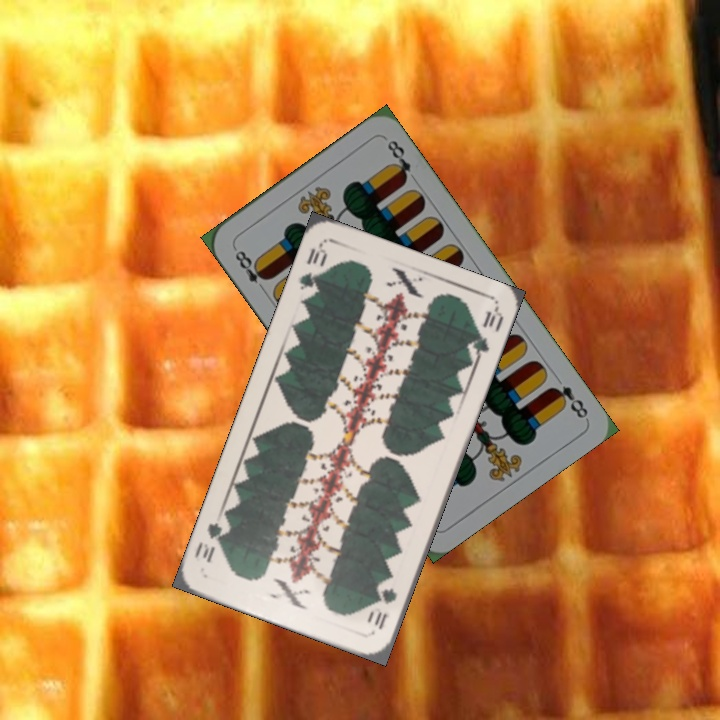E8: (229, 243, 272, 295), (546, 381, 591, 421)
G10: (295, 241, 330, 300), (370, 584, 400, 633)
